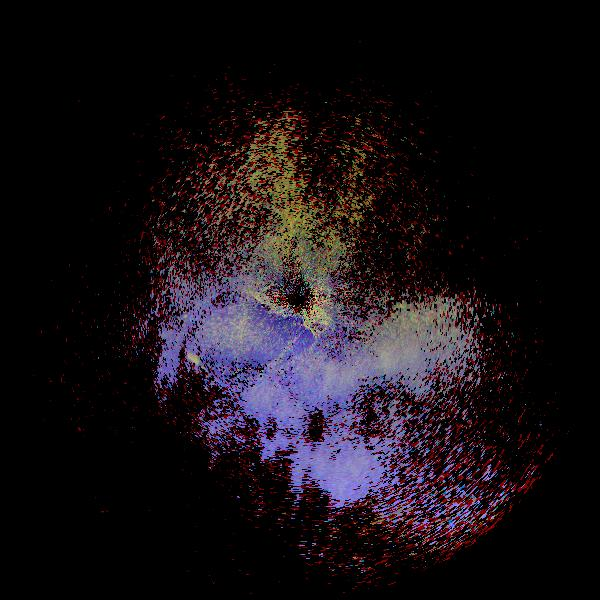roost: (127, 328, 214, 415)
